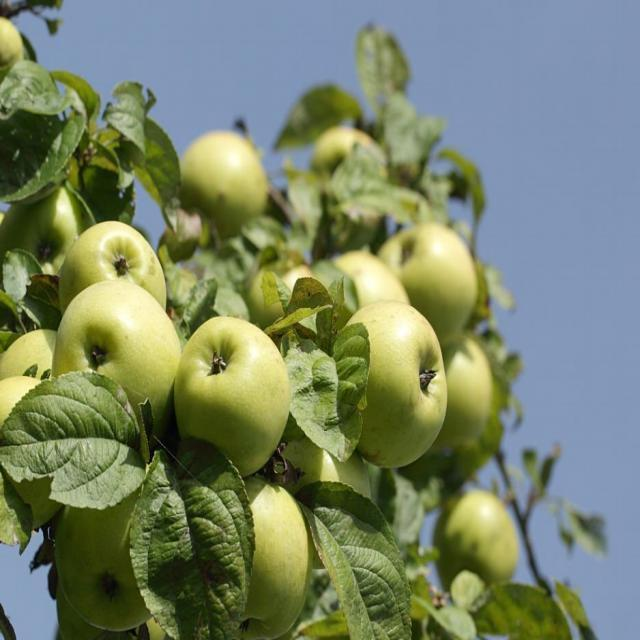Green Apple: (58, 278, 187, 437), (188, 315, 299, 465), (341, 303, 444, 462), (59, 478, 164, 631), (217, 479, 313, 640), (372, 220, 475, 342), (1, 362, 75, 529), (277, 424, 373, 550), (58, 226, 171, 329), (310, 250, 405, 361), (430, 327, 502, 468), (3, 190, 86, 305), (443, 490, 521, 598), (184, 132, 265, 232), (248, 247, 326, 345), (3, 326, 77, 411), (317, 123, 379, 207), (290, 594, 375, 640), (1, 8, 28, 72)
